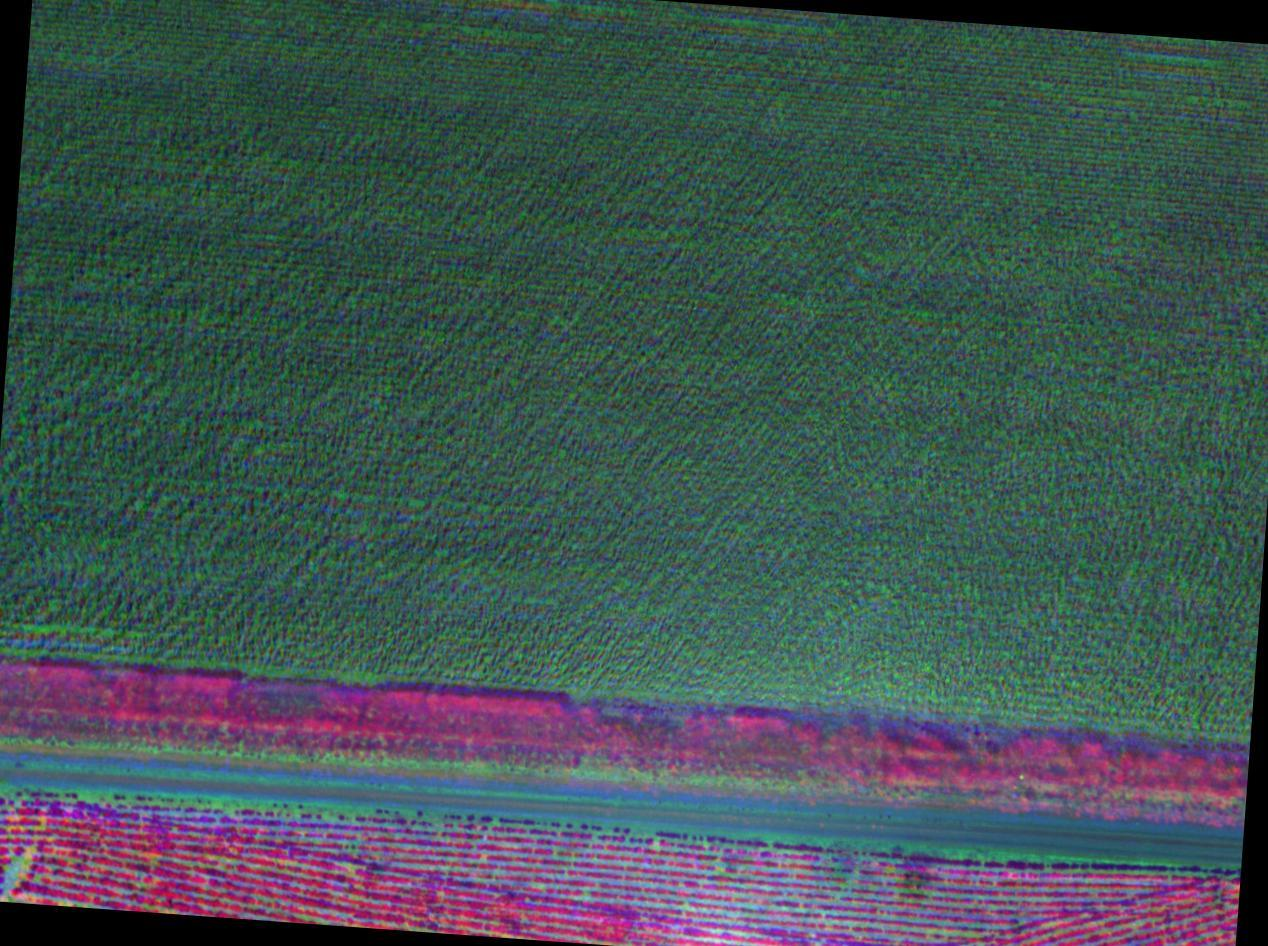dc: (875, 836, 961, 924), (0, 826, 73, 903)
